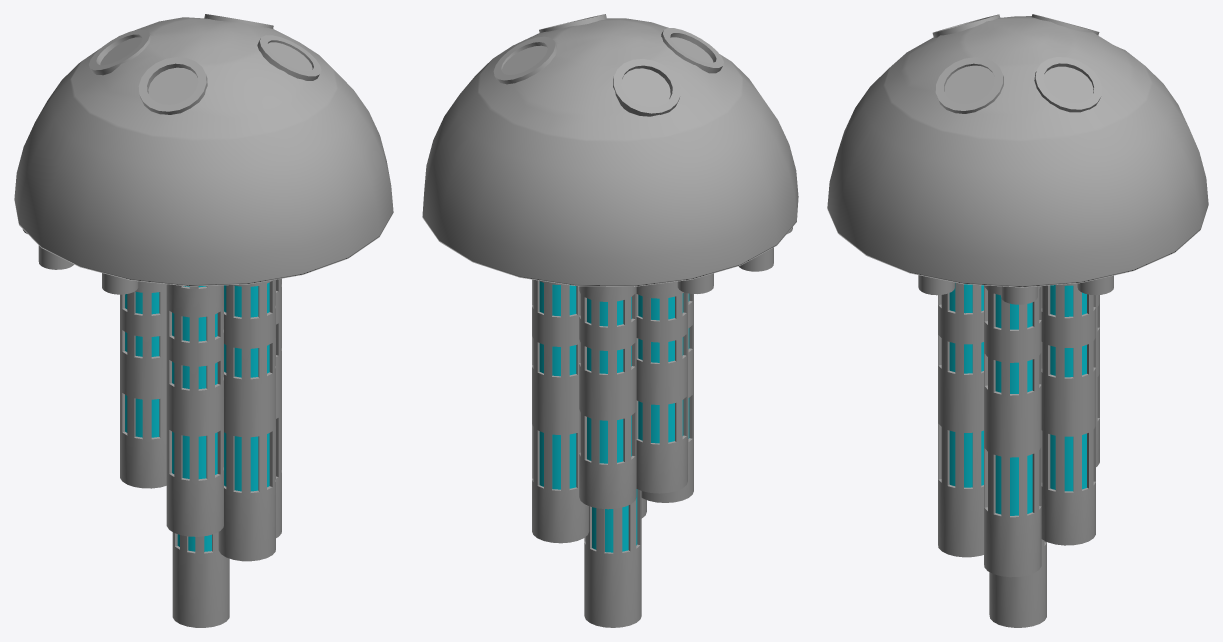
File: blue1.fbx
3 views of the same model, side by side, from view 1: azimuth 30°, elevation 25°; view 2: azimuth 150°, elevation 25°; view 3: azimuth 270°, elevation 25° (orthographic).
Visible parts, largest first — view 1: pSphere1, pCylinder9, pCylinder8, pCylinder10, pCylinder2 (×3), pCylinder1, pPipe8, pCylinder7, pCylinder6, pPipe10, pPipe7, pCylinder3 (+2 smaller); view 2: pSphere1, pCylinder11, pCylinder12, pCylinder10, pCylinder2 (×4), pCylinder1, pPipe7, pCylinder9, pCylinder5, pPipe9, pPipe8, pCylinder4 (+1 smaller); view 3: pSphere1, pCylinder7, pCylinder12, pCylinder8, pCylinder2 (×3), pCylinder1, pPipe10, pPipe9, pCylinder3, pCylinder4, pCylinder11, pPipe1 (+2 smaller).
Boxes of the visible parts, left/top/right/bottom form: pSphere1: left=14, top=17, right=393, bottom=286; pCylinder9: left=166, top=284, right=223, bottom=536; pCylinder8: left=218, top=279, right=275, bottom=561; pCylinder10: left=120, top=281, right=166, bottom=488; pCylinder2 (×3): left=125, top=282, right=269, bottom=491; pCylinder1: left=172, top=532, right=229, bottom=627; pPipe8: left=138, top=57, right=207, bottom=114; pCylinder7: left=276, top=278, right=281, bottom=537; pCylinder6: left=148, top=67, right=198, bottom=104; pPipe10: left=257, top=35, right=321, bottom=80; pPipe7: left=89, top=29, right=151, bottom=75; pCylinder3: left=267, top=42, right=312, bottom=71; pSphere1: left=422, top=18, right=798, bottom=286; pCylinder11: left=579, top=286, right=636, bottom=509; pCylinder12: left=532, top=279, right=589, bottom=543; pCylinder10: left=636, top=281, right=687, bottom=493; pCylinder2 (×4): left=539, top=281, right=683, bottom=552; pCylinder1: left=584, top=489, right=641, bottom=627; pPipe7: left=613, top=59, right=680, bottom=116; pCylinder9: left=641, top=293, right=693, bottom=502; pCylinder5: left=621, top=68, right=670, bottom=106; pPipe9: left=493, top=36, right=557, bottom=84; pPipe8: left=661, top=28, right=723, bottom=73; pCylinder4: left=502, top=45, right=547, bottom=74; pSphere1: left=827, top=16, right=1208, bottom=287; pCylinder7: left=984, top=285, right=1041, bottom=577; pCylinder12: left=1041, top=283, right=1095, bottom=545; pCylinder8: left=938, top=282, right=983, bottom=557; pCylinder2 (×3): left=949, top=283, right=1086, bottom=515; pCylinder1: left=989, top=539, right=1046, bottom=627; pPipe10: left=935, top=57, right=1003, bottom=113; pPipe9: left=1034, top=57, right=1102, bottom=112; pCylinder3: left=944, top=65, right=994, bottom=104; pCylinder4: left=1043, top=66, right=1093, bottom=103; pCylinder11: left=1096, top=295, right=1099, bottom=466; pPipe1: left=1001, top=286, right=1037, bottom=304.
Size of the model in its own units: 13.35 by 22.52 by 13.35.
